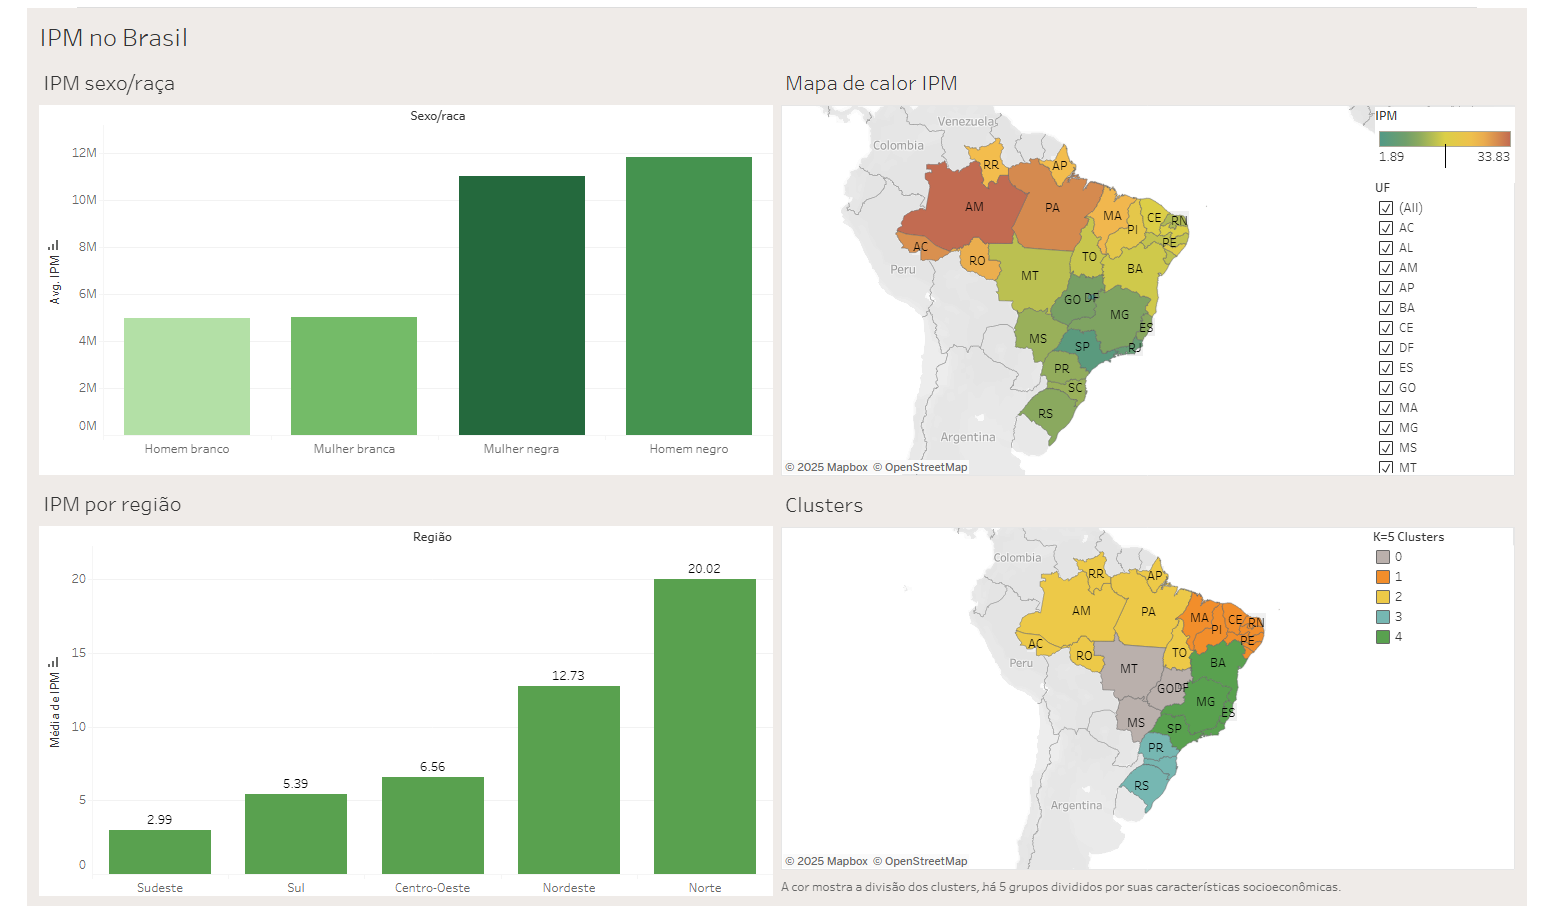

The page's visual inventory and layout, read from the dashboard file:
{"tool":"tableau","page":{"name":"IPM no Brasil","canvas":[1500,900],"ordinal":0},"visuals":[{"type":"title","box":[8,8,1484,42]},{"type":"worksheet","title":"IPM sexo/raça","mark":"Automatic","rows":["IPM"],"cols":["sxraca"],"box":[8,50,742,421]},{"type":"worksheet","title":"Mapa de calor IPM","mark":"Multipolygon","box":[750,50,742,421.8]},{"type":"legend","title":"Mapa de calor IPM","param":"[federated.1kzvj650wxtjpc16wxci21oduidn].[sum:IPM:qk]","box":[1348,99,140,76]},{"type":"filter","title":"Mapa de calor IPM","param":"[federated.1kzvj650wxtjpc16wxci21oduidn].[none:UF:nk]","box":[1348,170,135,295]},{"type":"worksheet","title":"IPM por região","mark":"Automatic","rows":["IPM"],"cols":["cod_local"],"box":[8,471,742,421]},{"type":"worksheet","title":"Clusters","mark":"Multipolygon","box":[750,471.9,742,420.1]},{"type":"legend","title":"Clusters","param":"[federated.0x6pb1e0qexg4c1411hty1wfl13n].[attr:K=5 Clusters:ok]","box":[1346,520,140,118]}]}

Visuals, with their boxes in screenshot pixels (x1, y1, x2, y2):
"IPM sexo/raça" worksheet: detection(0, 0, 749, 433)
"Mapa de calor IPM" worksheet (Multipolygon marks): detection(749, 0, 1514, 434)
"Mapa de calor IPM" legend: detection(1366, 49, 1510, 128)
"Mapa de calor IPM" filter: detection(1366, 123, 1505, 427)
"IPM por região" worksheet: detection(0, 433, 749, 867)
"Clusters" worksheet (Multipolygon marks): detection(749, 434, 1514, 867)
"Clusters" legend: detection(1364, 484, 1508, 605)
